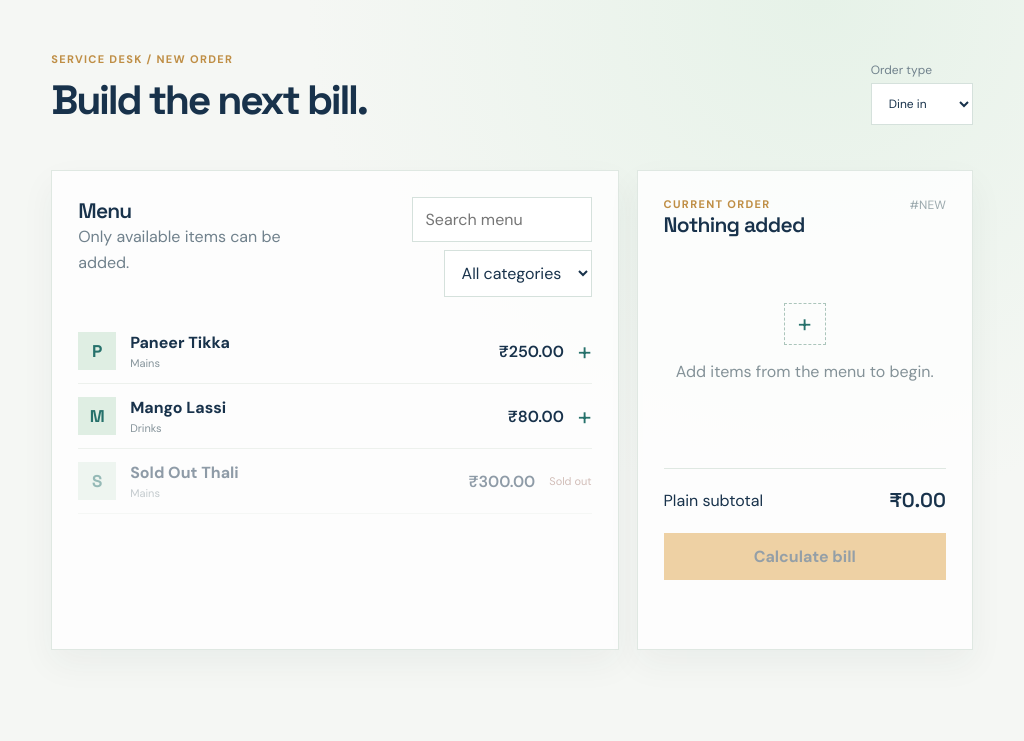
Test case: NewOrder › renders the server bill breakdown after preview
Click the button "P Paneer Tikka Mains ₹250.00 +" at (97, 351), box [78, 319, 592, 384]
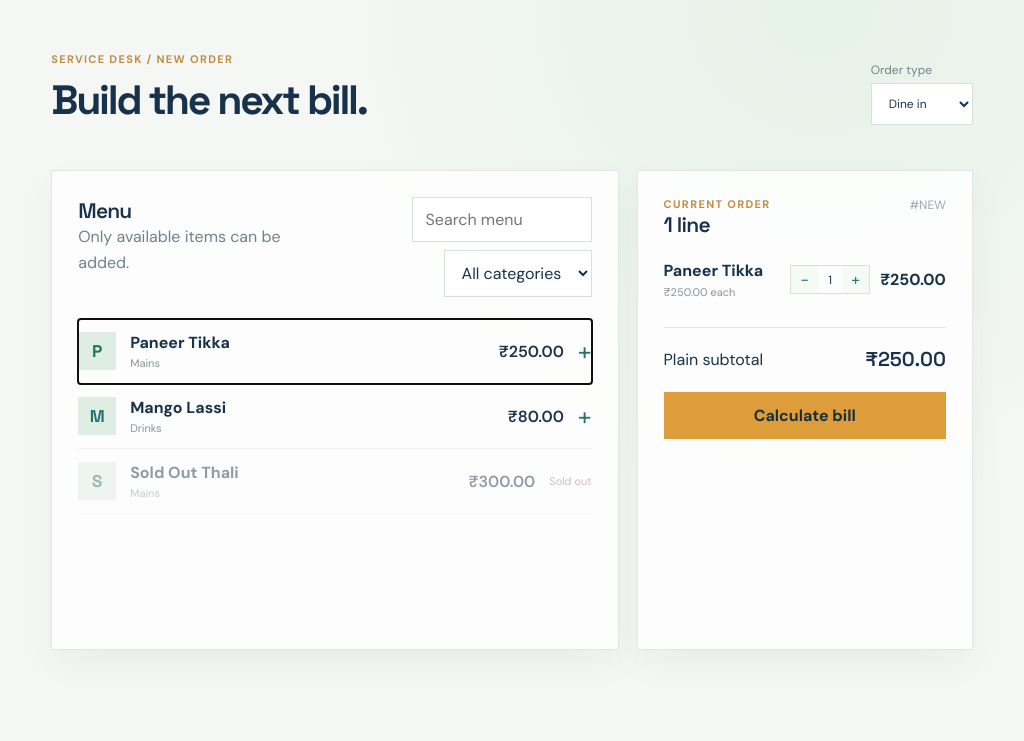
Click the button "Calculate bill" at (805, 416), box [664, 392, 946, 439]
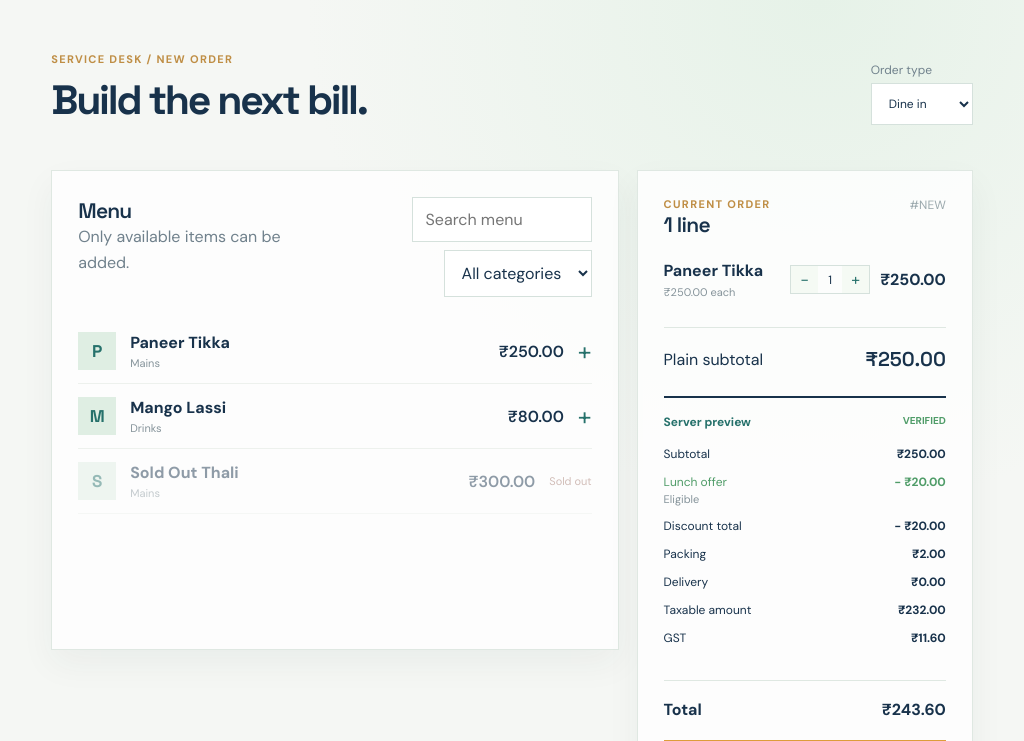
expect the text "Server preview" is shown: met, box [664, 414, 751, 430]
expect the text "Lunch offer" is shown: met, box [664, 474, 727, 490]
expect the text "Taxable amount" is shown: met, box [664, 602, 751, 618]
